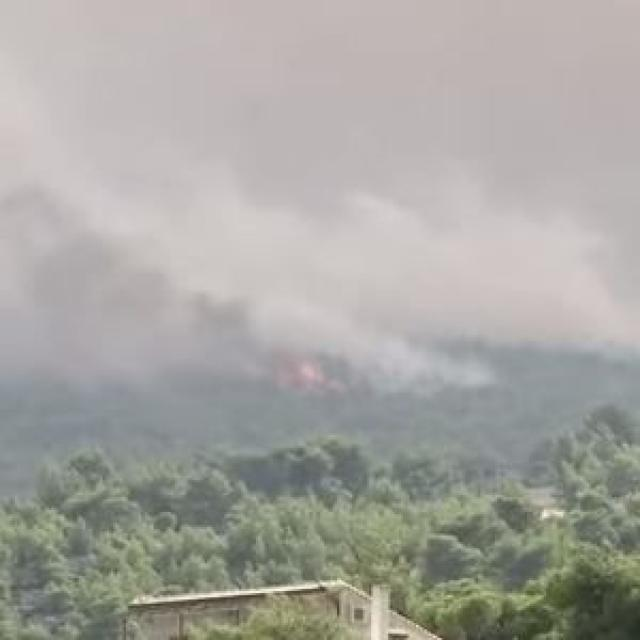Smoke: (0, 27, 631, 435)
